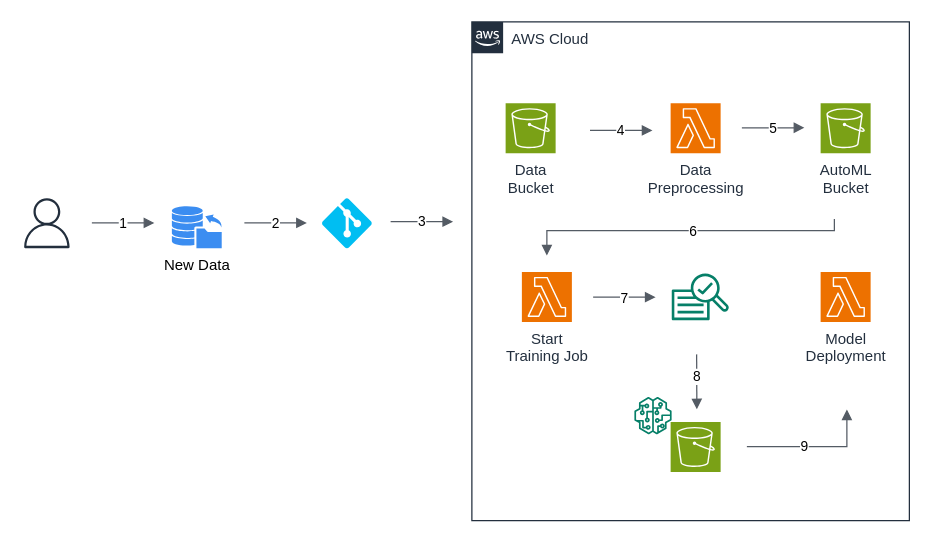
Some shapes in this 931 by 543 pixel diagram are drawn without their labels. The shapes that lost their labels are listed below. From the top down, each one's centre as x and y in pixels, then its label:
At point 46,223: "User".
At point 346,223: "GitHub Repository".
At point 699,296: "Training".
At point 695,446: "Model outputs Bucket".
